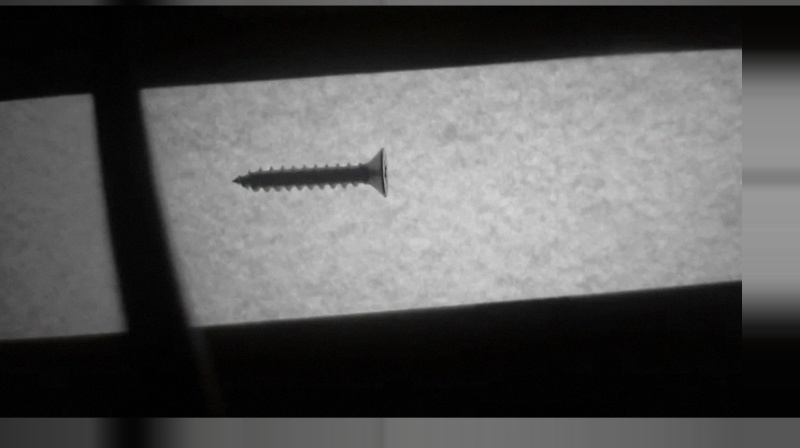S001: (228, 147, 392, 197)
